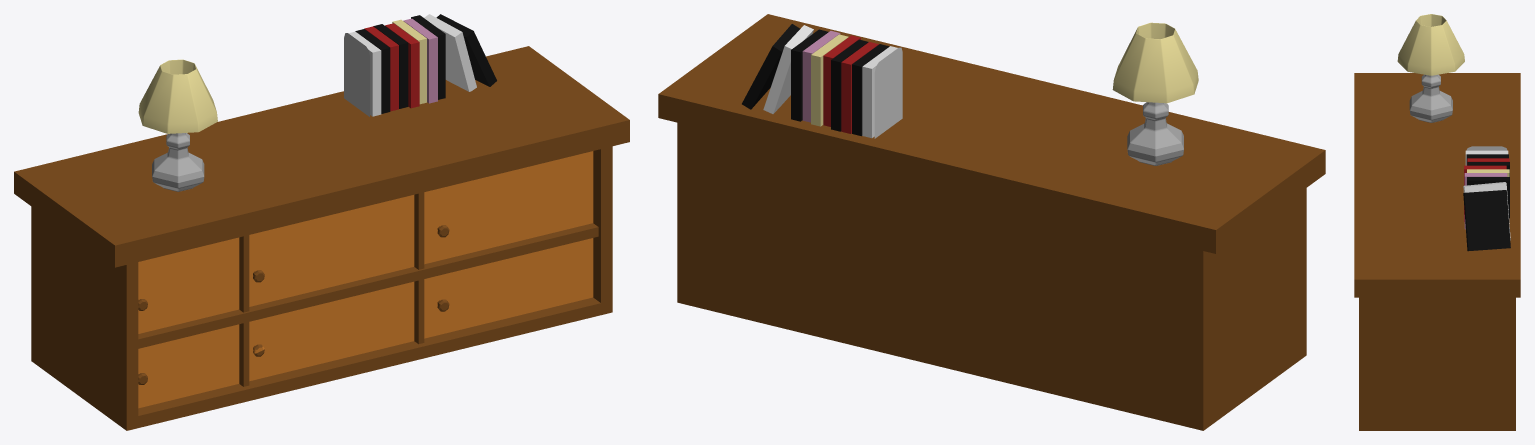
The model's file is Laci 4.fbx.
3 views of the same model, side by side, from view 1: azimuth 30°, elevation 25°; view 2: azimuth 150°, elevation 25°; view 3: azimuth 270°, elevation 25° (orthographic). The views are drawn at different scales.
Visible parts, largest first — view 1: jendela.004, Book4.001, Circle.008; view 2: jendela.004, Book4.001, Circle.008; view 3: jendela.004, Book4.001, Circle.008.
Boxes of the visible parts, bbox=[...] form: jendela.004: bbox=[14, 46, 629, 430]; Book4.001: bbox=[344, 14, 496, 116]; Circle.008: bbox=[138, 59, 217, 191]; jendela.004: bbox=[658, 14, 1325, 430]; Book4.001: bbox=[742, 24, 902, 138]; Circle.008: bbox=[1112, 22, 1198, 165]; jendela.004: bbox=[1354, 73, 1520, 430]; Book4.001: bbox=[1463, 146, 1510, 251]; Circle.008: bbox=[1397, 14, 1464, 122].
Bounding box in the file's own units: 1676 × 959 × 570.
